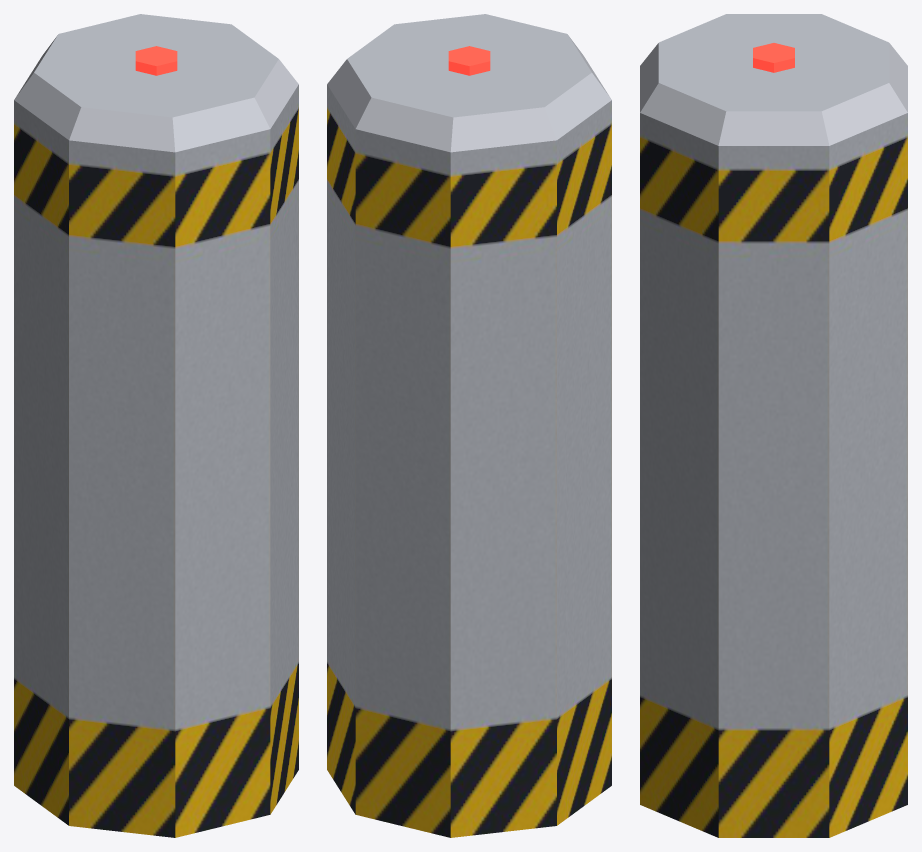
File: pillar.glb
3 renders of one model, left to right at view 1: azimuth 30°, elevation 25°; view 2: azimuth 150°, elevation 25°; view 3: azimuth 270°, elevation 25°, orthographic.
Visible parts, largest first — view 1: pillar; view 2: pillar; view 3: pillar.
Part boxes in pixels (x1,y1,x2,y2): pillar: [14, 14, 298, 837]; pillar: [327, 14, 611, 837]; pillar: [640, 14, 907, 837].
Size of the model in its own units: 2 by 6 by 2.
1 material, 1 textured.
